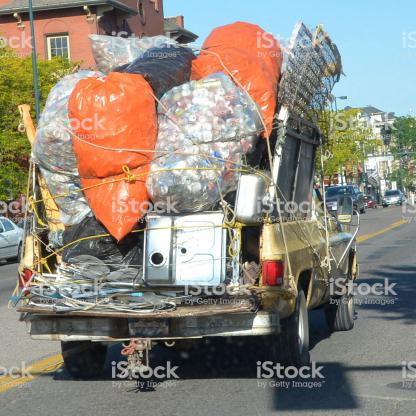overloaded-truck: (31, 17, 317, 364)
